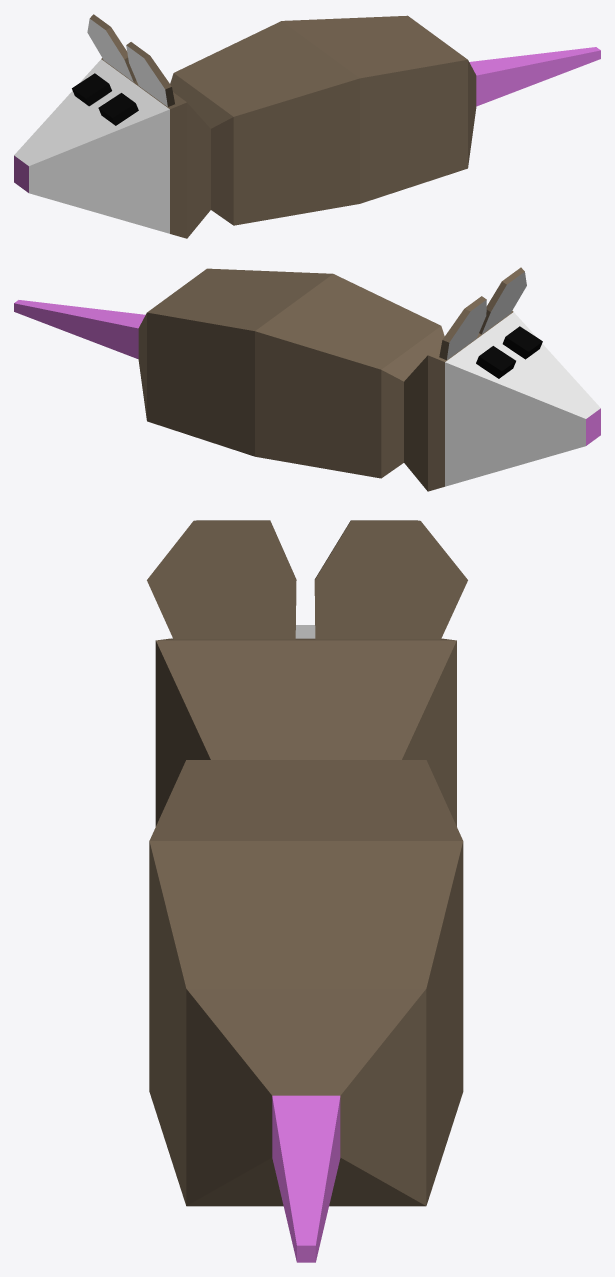
The model's file is Possum.fbx.
3 renders of one model, top to bottom at view 1: azimuth 30°, elevation 25°; view 2: azimuth 150°, elevation 25°; view 3: azimuth 270°, elevation 25°, orthographic. The views are drawn at different scales.
Visible parts, largest first — view 1: Cube, Cube.002, Cube.001; view 2: Cube, Cube.002, Cube.001; view 3: Cube.
Part boxes in pixels (bbox=[...]): Cube: bbox=[14, 14, 600, 238]; Cube.002: bbox=[98, 93, 138, 125]; Cube.001: bbox=[72, 73, 111, 106]; Cube: bbox=[14, 267, 600, 491]; Cube.002: bbox=[502, 326, 542, 359]; Cube.001: bbox=[476, 346, 515, 378]; Cube: bbox=[147, 520, 467, 1262].
Bounding box in the file's own units: 1110 × 347 × 268.
